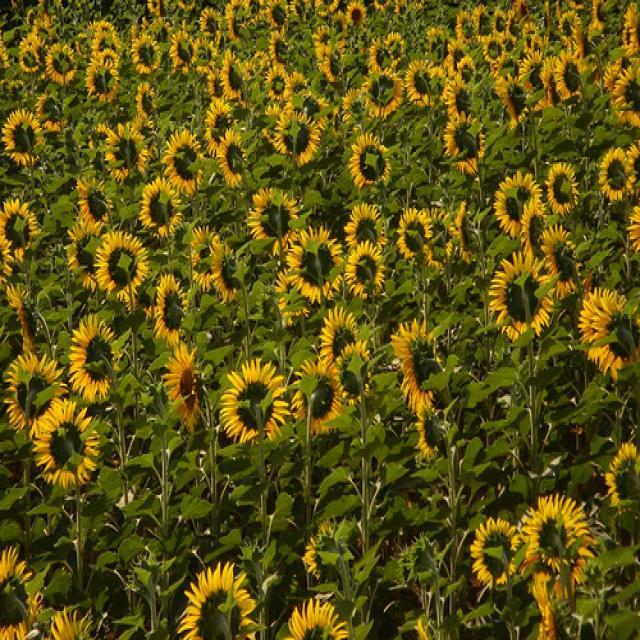sunflower: (219, 358, 292, 444), (178, 562, 256, 638), (488, 251, 554, 340), (33, 398, 100, 485), (523, 493, 593, 571), (4, 351, 68, 429), (389, 318, 441, 412), (66, 315, 120, 404), (587, 296, 640, 382), (291, 355, 348, 434), (96, 232, 147, 298), (471, 517, 518, 585), (163, 342, 200, 428), (0, 545, 33, 640), (292, 234, 338, 297), (68, 216, 107, 290), (540, 224, 578, 298), (283, 598, 348, 640), (161, 131, 203, 194), (138, 177, 181, 236), (275, 111, 319, 168), (578, 288, 625, 340), (1, 109, 44, 165), (335, 341, 372, 405), (0, 199, 40, 258), (104, 124, 148, 176), (444, 111, 482, 170), (604, 442, 640, 504), (350, 133, 391, 187), (5, 285, 39, 348), (320, 306, 360, 358), (363, 66, 403, 118), (188, 226, 220, 290), (492, 175, 524, 236), (74, 178, 113, 227), (254, 190, 290, 242), (215, 130, 247, 188), (495, 74, 531, 124), (425, 205, 454, 267), (598, 147, 631, 200), (274, 267, 308, 318), (555, 45, 586, 100), (416, 407, 448, 460), (546, 163, 578, 215), (344, 252, 380, 298), (154, 280, 180, 338), (288, 93, 328, 130), (346, 202, 378, 248), (217, 245, 242, 302), (405, 58, 435, 105), (85, 60, 118, 100), (50, 606, 88, 640), (48, 42, 76, 86), (396, 207, 422, 254), (519, 50, 548, 91), (221, 51, 246, 98), (455, 203, 475, 260), (445, 77, 475, 112), (516, 168, 543, 206), (36, 96, 66, 130), (524, 205, 544, 251), (266, 64, 290, 100), (619, 77, 640, 118), (206, 99, 230, 132), (264, 1, 286, 36), (168, 29, 190, 63), (134, 41, 156, 74), (372, 42, 394, 75), (559, 9, 581, 41), (454, 11, 478, 40), (200, 11, 223, 41), (483, 35, 506, 65), (137, 82, 156, 118), (228, 6, 248, 38), (208, 69, 230, 98), (269, 34, 289, 65), (625, 144, 640, 185), (476, 8, 496, 38), (204, 126, 222, 156), (456, 52, 475, 80), (20, 46, 40, 72), (344, 88, 364, 114), (592, 0, 608, 32), (92, 34, 117, 54), (629, 205, 640, 250), (346, 0, 365, 25), (324, 56, 342, 82), (493, 10, 511, 35), (330, 11, 348, 34), (314, 27, 334, 47), (389, 32, 405, 56), (101, 47, 119, 66), (290, 75, 308, 92), (95, 21, 115, 35), (146, 1, 160, 13)
